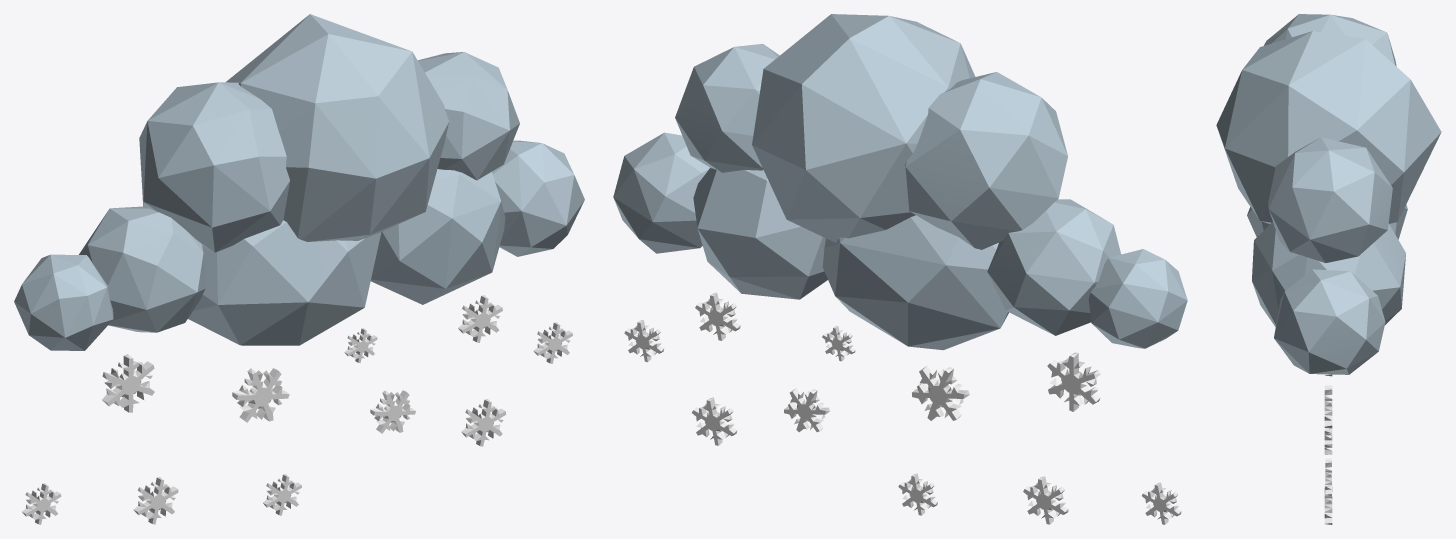
File: stylize_cloud_15.fbx
3 renders of one model, left to right at view 1: azimuth 30°, elevation 25°; view 2: azimuth 150°, elevation 25°; view 3: azimuth 270°, elevation 25°, orthographic. The views are drawn at different scales.
Visible parts, largest first — view 1: cloud_95; view 2: cloud_95; view 3: cloud_95.
Boxes of the visible parts, left/top/right/bottom form: cloud_95: left=14, top=14, right=584, bottom=524; cloud_95: left=613, top=14, right=1187, bottom=524; cloud_95: left=1216, top=14, right=1441, bottom=524.
Bounding box in the file's own units: 570 × 472 × 220.
